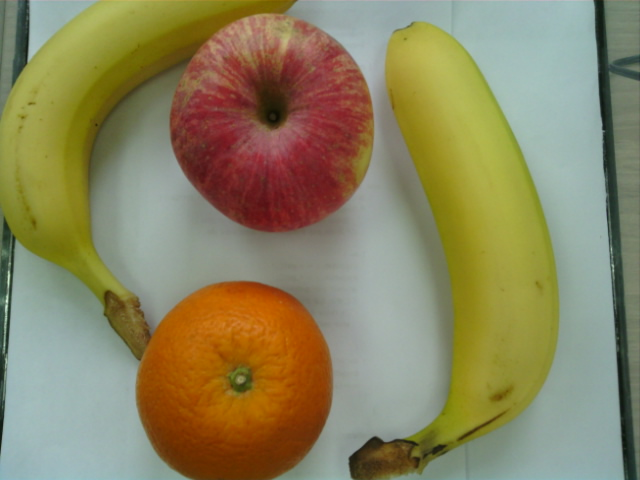normal_apple: (172, 13, 375, 235)
normal_banana: (382, 22, 562, 480), (1, 3, 296, 256)
normal_orange: (140, 278, 336, 480)
